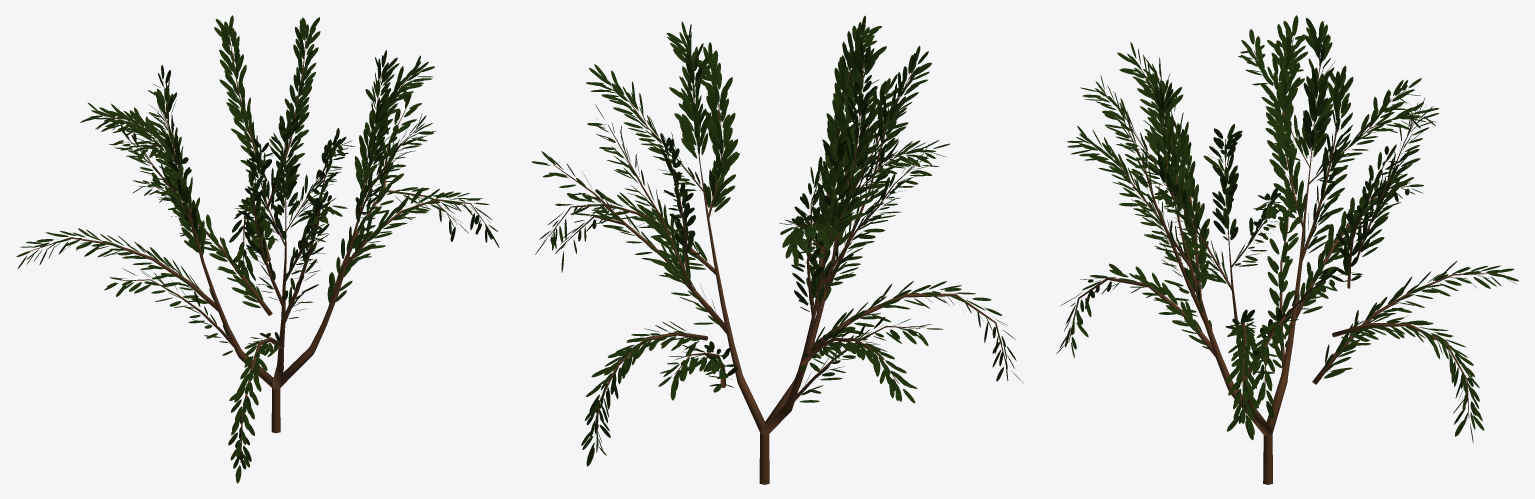
File: fruitTree.fbx
3 renders of one model, left to right at view 1: azimuth 30°, elevation 25°; view 2: azimuth 150°, elevation 25°; view 3: azimuth 270°, elevation 25°, orthographic. The views are drawn at different scales.
Parts seen in each view (by area): view 1: branch015, branch014, branch013, branch005, branch011, branch007, branch004, branch009, branch012, branch001, branch002, branch008; view 2: branch015, branch014, branch013, branch002, branch009, branch011, branch005, branch007, branch012, branch004, branch001, branch008 (+1 smaller); view 3: branch014, branch015, branch013, branch002, branch001, branch009, branch012, branch011, branch007, branch004, branch005, branch008 (+1 smaller).
Boxes of the visible parts, x1,y1,x2,y2 form: branch015: (237,115,355,389); branch014: (80,65,273,388); branch013: (279,50,435,387); branch005: (267,17,320,207); branch011: (327,91,468,313); branch007: (16,228,219,311); branch004: (214,15,267,181); branch009: (228,332,283,483); branch012: (346,187,499,266); branch001: (132,172,272,315); branch002: (229,197,274,280); branch008: (104,268,236,355); branch015: (765,16,931,423); branch014: (760,107,949,435); branch013: (586,21,764,432); branch002: (581,321,707,466); branch009: (809,281,1023,383); branch011: (531,151,728,333); branch005: (587,104,693,291); branch007: (800,326,917,403); branch012: (535,189,716,274); branch004: (647,132,701,266); branch001: (658,341,737,400); branch008: (795,317,942,402); branch014: (1238,15,1438,432); branch015: (1067,42,1263,434); branch013: (1150,124,1286,435); branch002: (1332,314,1484,443); branch001: (1312,261,1518,384); branch009: (1056,263,1216,358); branch012: (1225,309,1259,439); branch011: (1243,267,1353,418); branch007: (1296,173,1423,319); branch004: (1357,97,1439,257); branch005: (1330,144,1411,288); branch008: (1262,195,1302,368).
Size of the model in its own units: 178 by 156 by 158.
